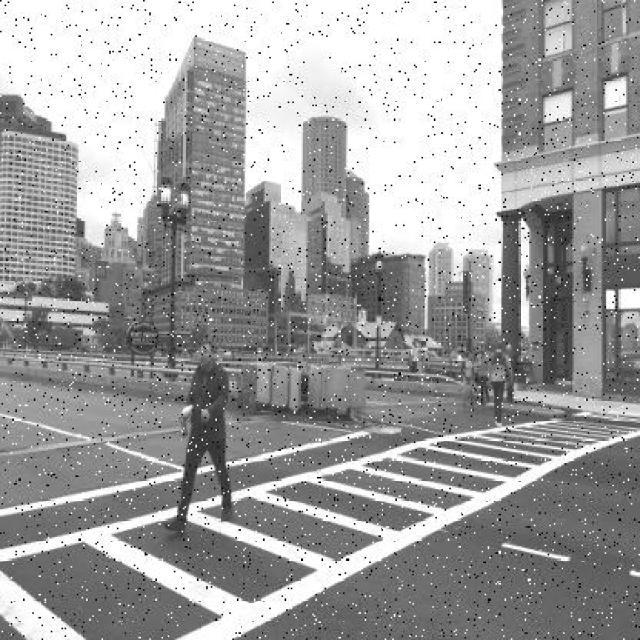intact_crosswalk: (0, 412, 639, 640)
